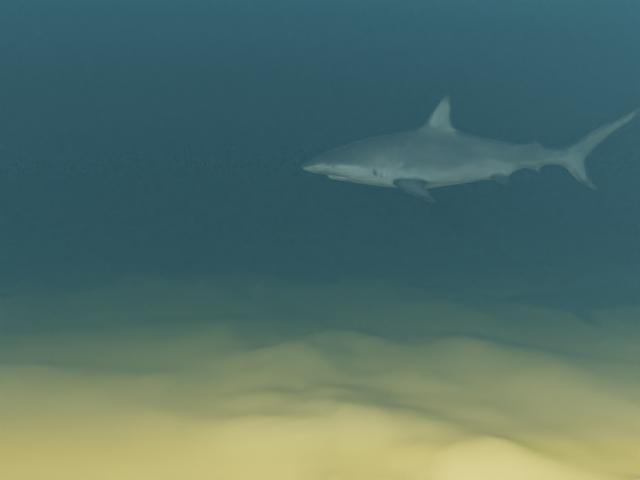Carribean Shark.001: (301, 94, 640, 202)
